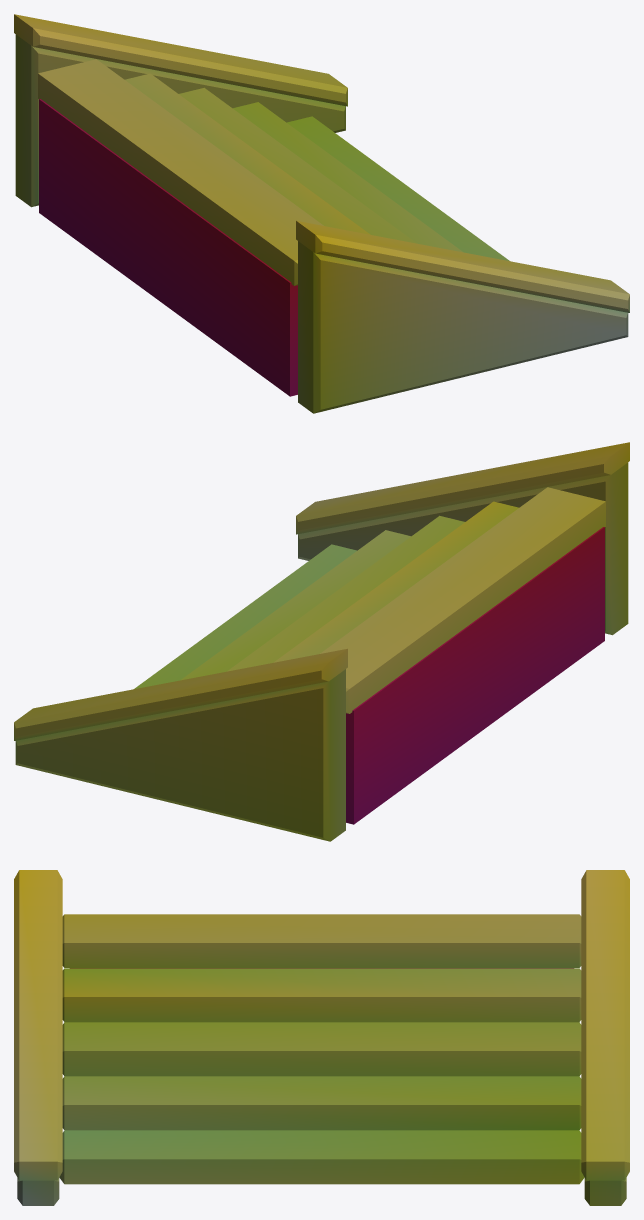
Rendered from Platform_Stairs_End_NoStripe.fbx.
3 renders of one model, top to bottom at view 1: azimuth 30°, elevation 25°; view 2: azimuth 150°, elevation 25°; view 3: azimuth 270°, elevation 25°, orthographic.
Visible parts, largest first — view 1: Platform_Stairs_End_NoStripe; view 2: Platform_Stairs_End_NoStripe; view 3: Platform_Stairs_End_NoStripe.
Boxes of the visible parts, <box> form: Platform_Stairs_End_NoStripe: <box>14,14,629,413</box>; Platform_Stairs_End_NoStripe: <box>14,442,629,841</box>; Platform_Stairs_End_NoStripe: <box>14,870,629,1205</box>.
Bounding box in the file's own units: 2.1 × 1.15 × 3.54.
